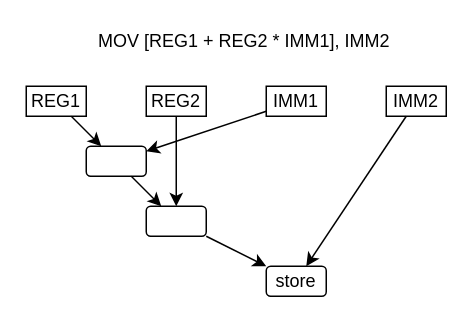
Some shapes in this 473 by 323 pixel diagram are drawn without their labels. The box of each missing label's shape, as (x1, y1, x2, y2) in pixels:
add: (145, 205, 206, 236)
shl: (85, 145, 146, 176)
